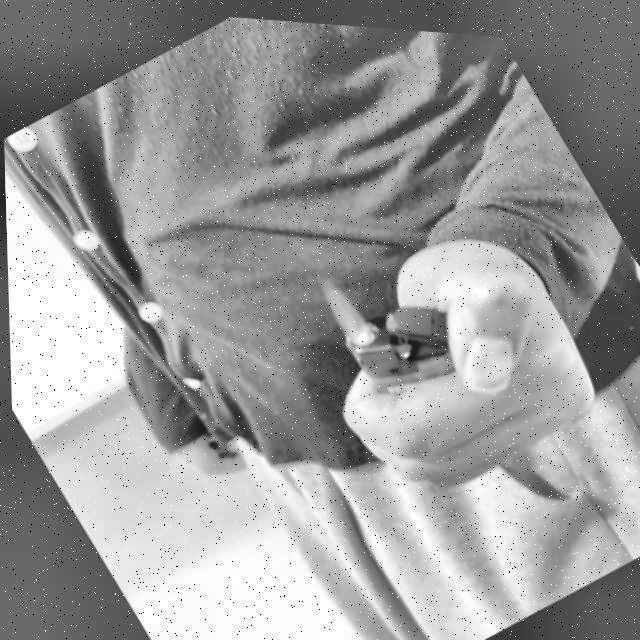Fire: (312, 264, 377, 349)
